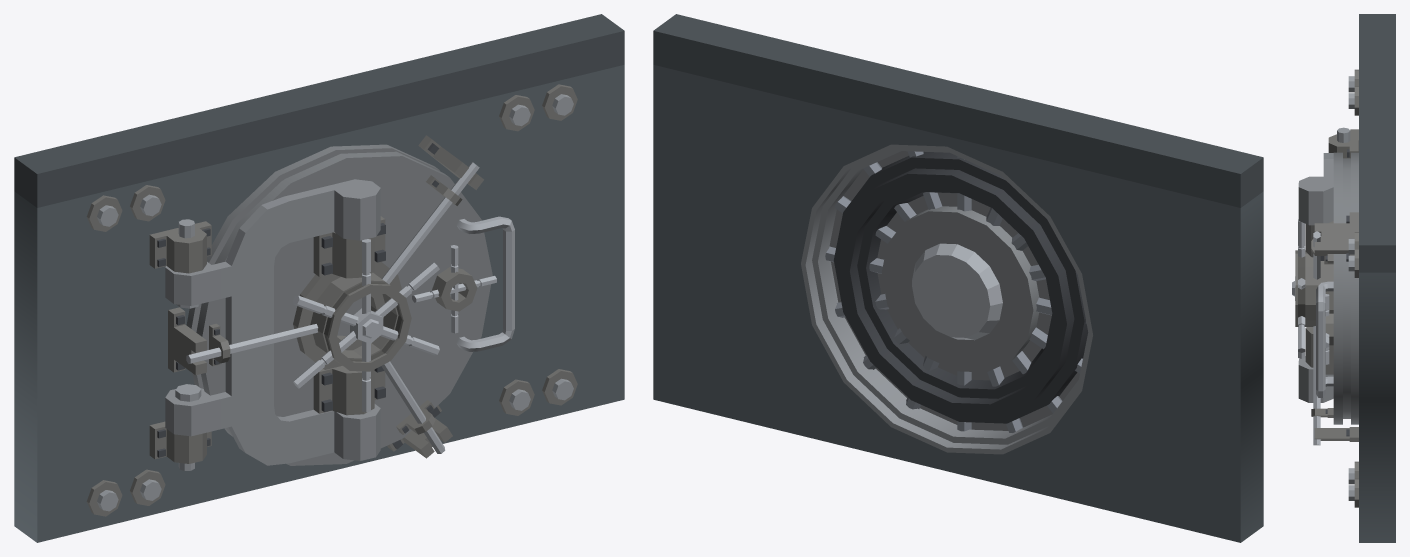
The model's file is VaultDoor_Frame_01.glb.
3 views of the same model, side by side, from view 1: azimuth 30°, elevation 25°; view 2: azimuth 150°, elevation 25°; view 3: azimuth 270°, elevation 25° (orthographic). The views are drawn at different scales.
Visible parts, largest first — view 1: SM_Env_VaultDoor_Frame_01, SM_Env_VaultDoor_Lid_01, SM_Env_VaultDoor_Handle_01, SM_Env_VaultDoor_Handle_02; view 2: SM_Env_VaultDoor_Frame_01, SM_Env_VaultDoor_Lid_01; view 3: SM_Env_VaultDoor_Frame_01, SM_Env_VaultDoor_Lid_01, SM_Env_VaultDoor_Handle_01, SM_Env_VaultDoor_Handle_02.
Boxes of the visible parts, bbox=[...] form: SM_Env_VaultDoor_Frame_01: bbox=[14, 14, 624, 542]; SM_Env_VaultDoor_Lid_01: bbox=[165, 144, 514, 465]; SM_Env_VaultDoor_Handle_01: bbox=[293, 239, 439, 412]; SM_Env_VaultDoor_Handle_02: bbox=[412, 245, 496, 333]; SM_Env_VaultDoor_Frame_01: bbox=[653, 14, 1263, 542]; SM_Env_VaultDoor_Lid_01: bbox=[825, 151, 1088, 432]; SM_Env_VaultDoor_Frame_01: bbox=[1314, 14, 1395, 542]; SM_Env_VaultDoor_Lid_01: bbox=[1295, 152, 1358, 445]; SM_Env_VaultDoor_Handle_01: bbox=[1292, 219, 1305, 358]; SM_Env_VaultDoor_Handle_02: bbox=[1325, 294, 1329, 364].
Bounding box in the file's own units: 5 × 3 × 0.9471.
1 material, 1 textured.
